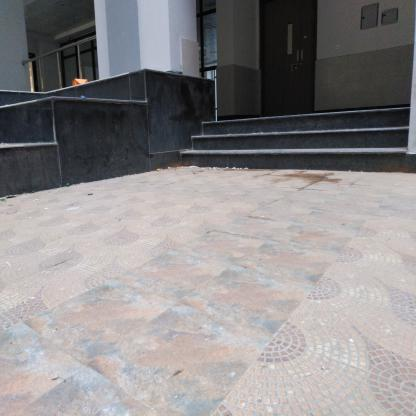stairs: (203, 119, 402, 173)
